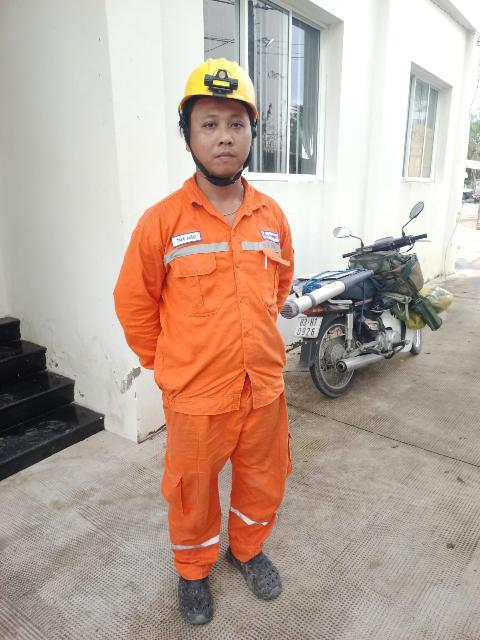helmet: (169, 52, 280, 129)
shoes: (226, 540, 295, 610), (163, 564, 226, 634)
